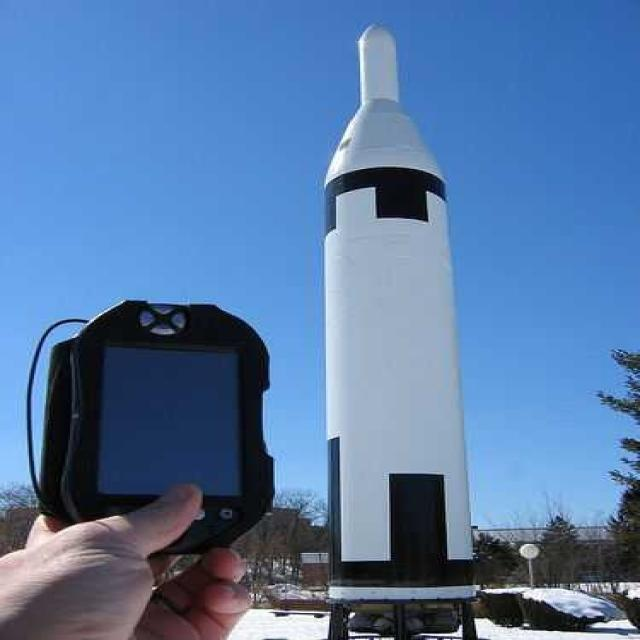missile: (312, 20, 477, 640)
